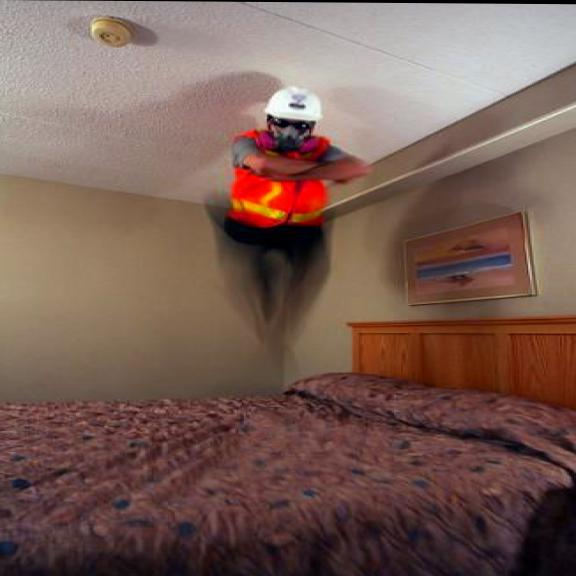safety_vest: (224, 130, 336, 230)
